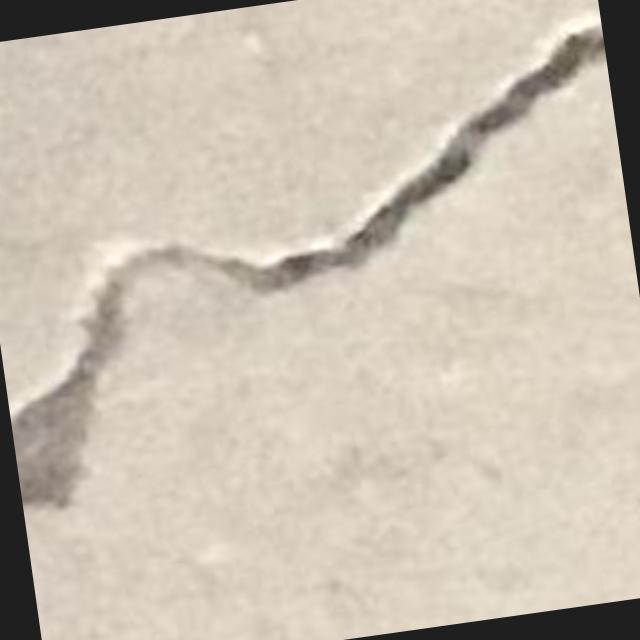crack: (11, 23, 605, 508)
